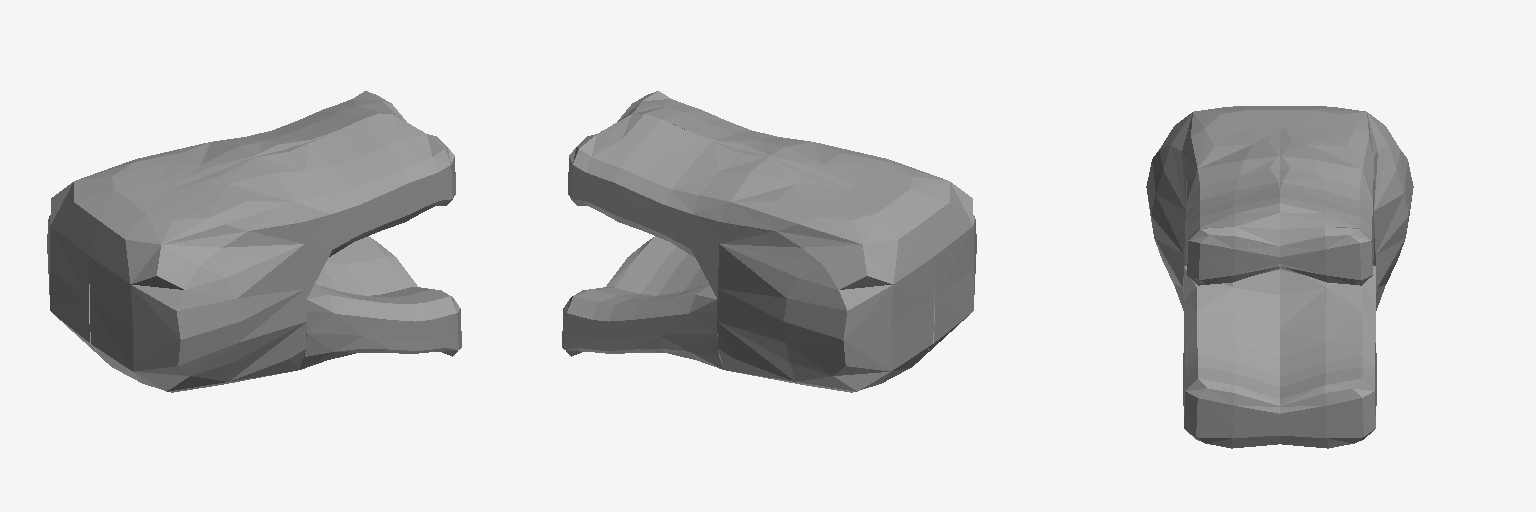
File: head.obj
3 views of the same model, side by side, from view 1: azimuth 30°, elevation 25°; view 2: azimuth 150°, elevation 25°; view 3: azimuth 270°, elevation 25° (orthographic).
Parts seen in each view (by area): view 1: Cube; view 2: Cube; view 3: Cube.
Boxes of the visible parts, box(x1,y1,x2,y2) form: Cube: box(47, 91, 461, 392); Cube: box(562, 91, 976, 392); Cube: box(1146, 106, 1413, 448).
Bounding box in the file's own units: 3.98 × 2.56 × 2.76.